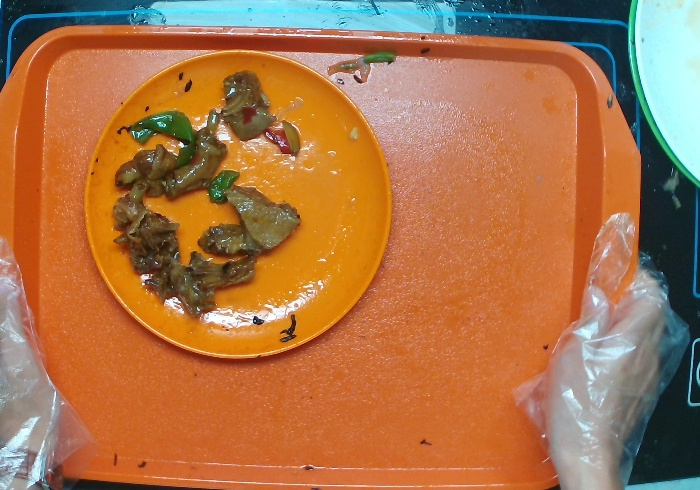HZYJPL-Ju_Huang_Yuan_Pan: (81, 49, 396, 366)
